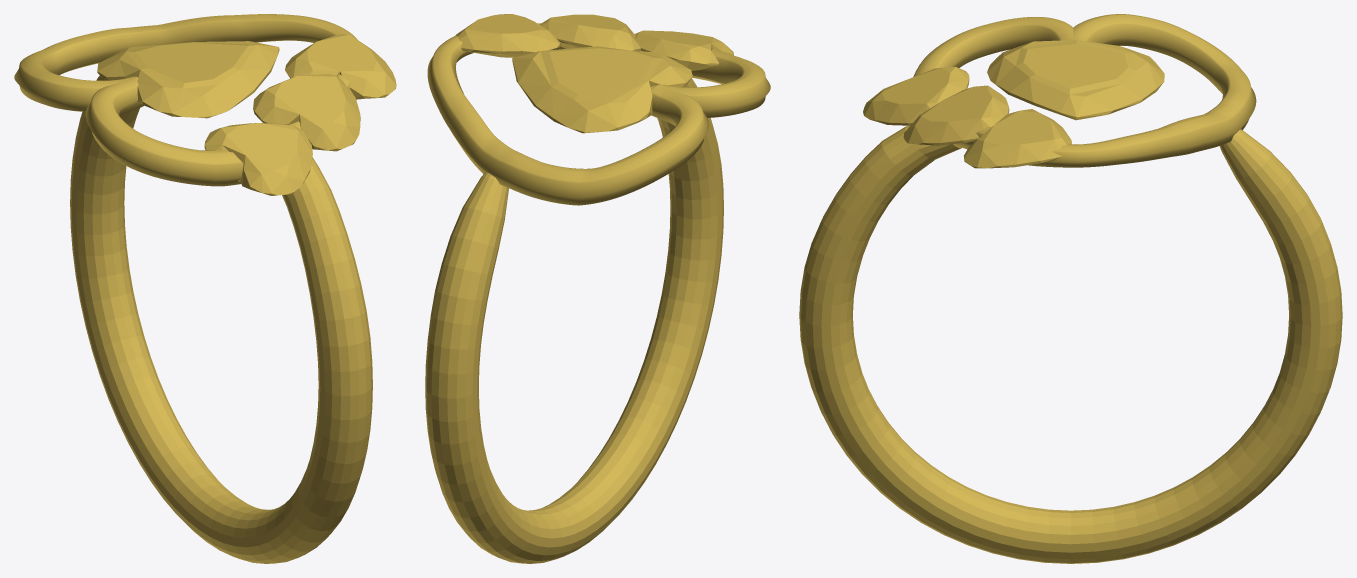
File: ring.glb
The picture shows the model from 3 angles, left to right: view 1: azimuth 30°, elevation 25°; view 2: azimuth 150°, elevation 25°; view 3: azimuth 270°, elevation 25°; orthographic projection.
Parts seen in each view (by area): view 1: Torus.003; view 2: Torus.003; view 3: Torus.003.
Boxes of the visible parts, box(x1,y1,x2,y2) form: Torus.003: box(14, 14, 396, 563); Torus.003: box(425, 14, 770, 563); Torus.003: box(799, 14, 1342, 563).
Size of the model in its own units: 0.5245 by 0.8364 by 0.8489.
